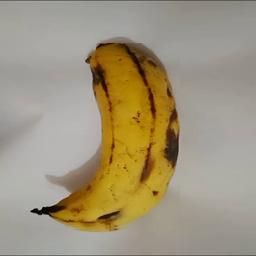Banana Semifresh: (28, 43, 180, 231)
